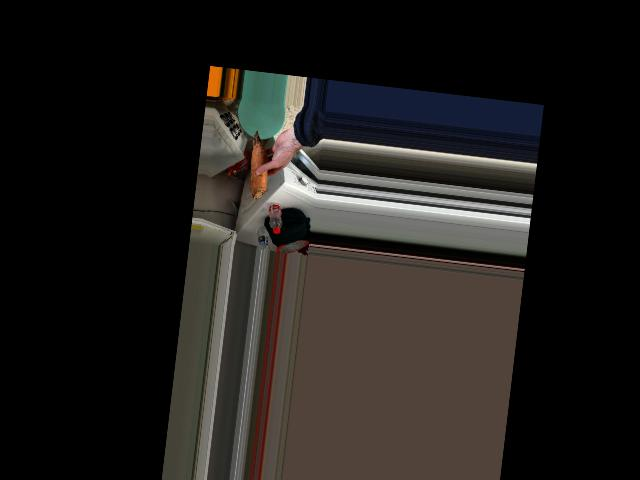sweet_potato: (248, 134, 274, 203)
